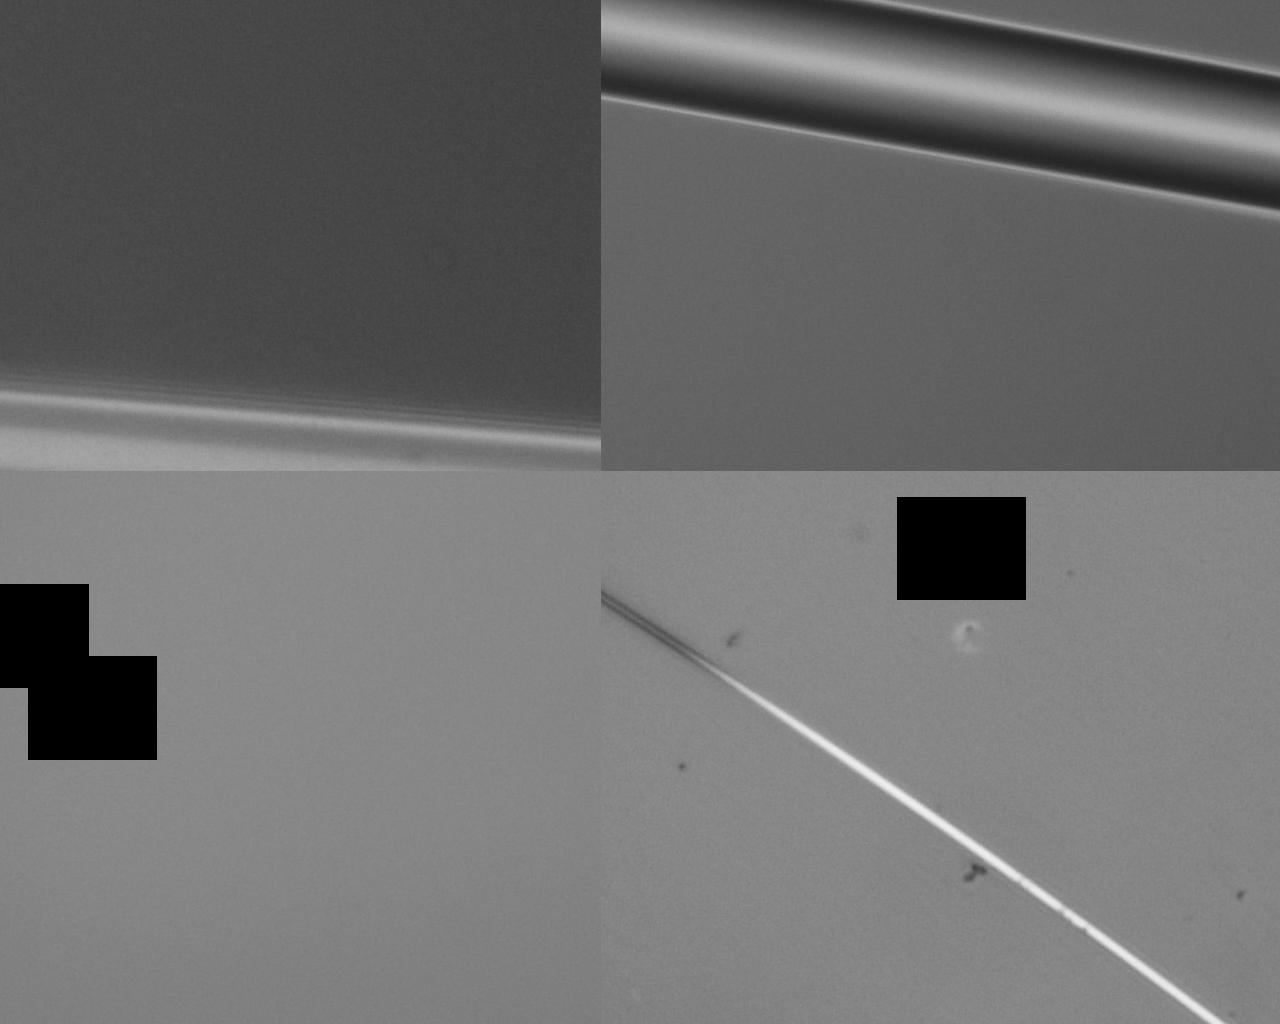fiber: (749, 0, 1280, 614), (0, 331, 598, 471), (0, 657, 614, 762), (639, 978, 1280, 1024)
